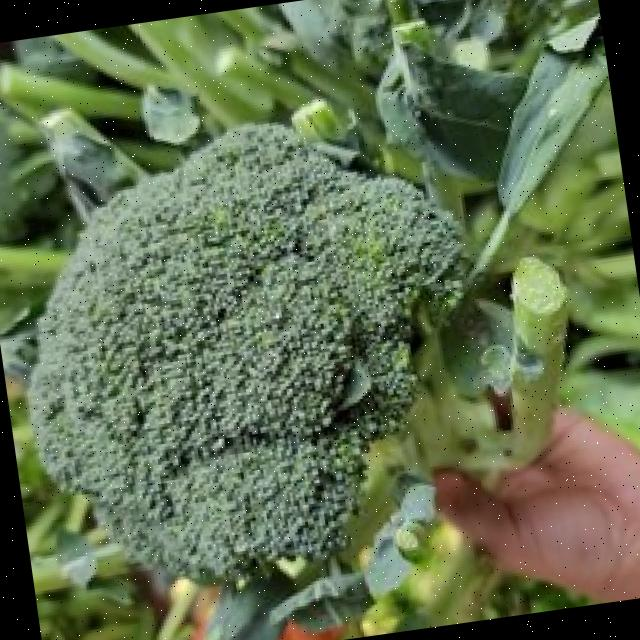Broccoli: (29, 124, 460, 577), (29, 127, 458, 574)
